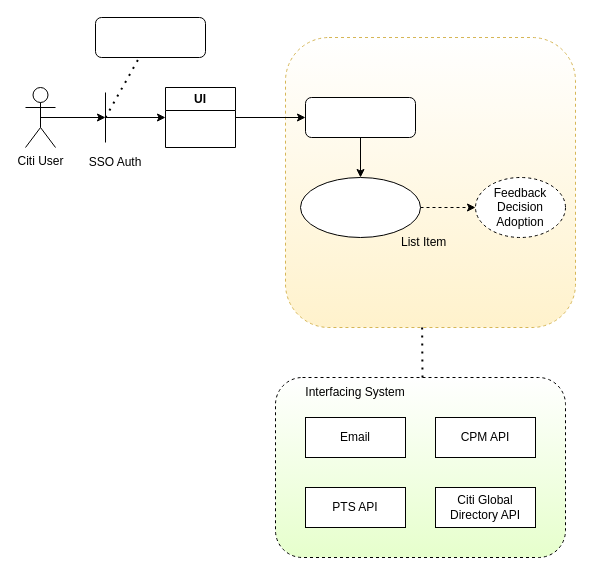
The diagram is 593 pixels wide and 575 high, and some of its shapes have lost their labels. The box of each missing label's shape, as (x1, y1, x2, y2) in pixels:
Citi Single Sign on: (94, 16, 206, 58)
Dashboard (PEGA App): (304, 96, 416, 138)
Predictive Model: (300, 176, 420, 238)
